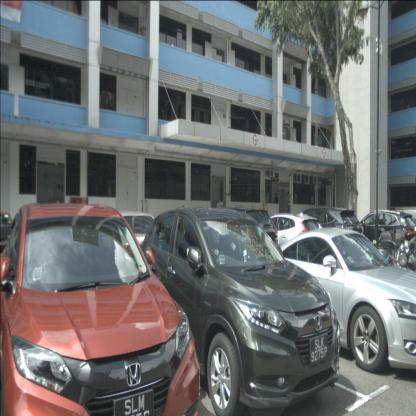human-pedestrian-adult: (286, 192, 291, 220)
vehicle-bicycle: (370, 211, 415, 295)
vehicle-car: (136, 207, 342, 416), (0, 204, 201, 416), (266, 227, 416, 373), (81, 212, 176, 284), (209, 206, 279, 274), (251, 213, 326, 269), (287, 206, 364, 258), (348, 209, 416, 263), (0, 211, 16, 263)
vehicle-motorcycle: (388, 230, 416, 314)
